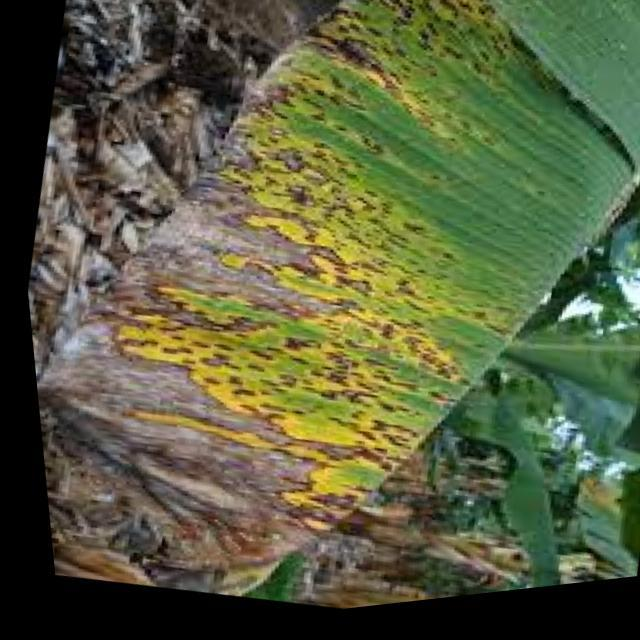Early_rust: (56, 0, 633, 623)
